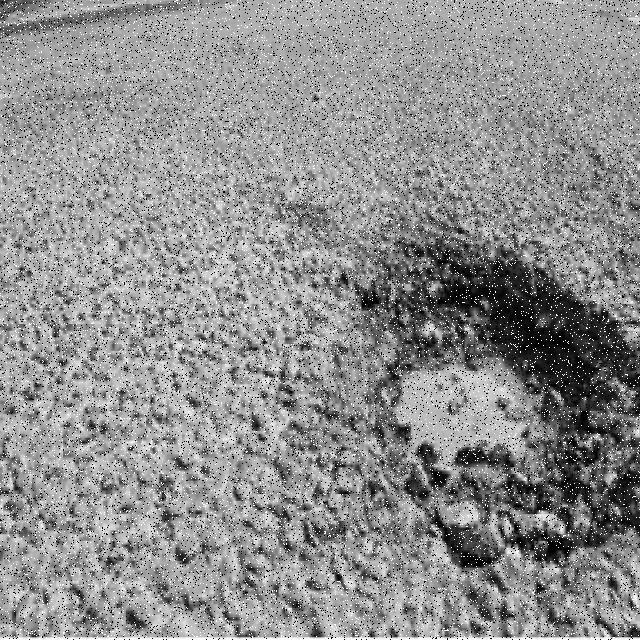pothole: (391, 237, 640, 591)
